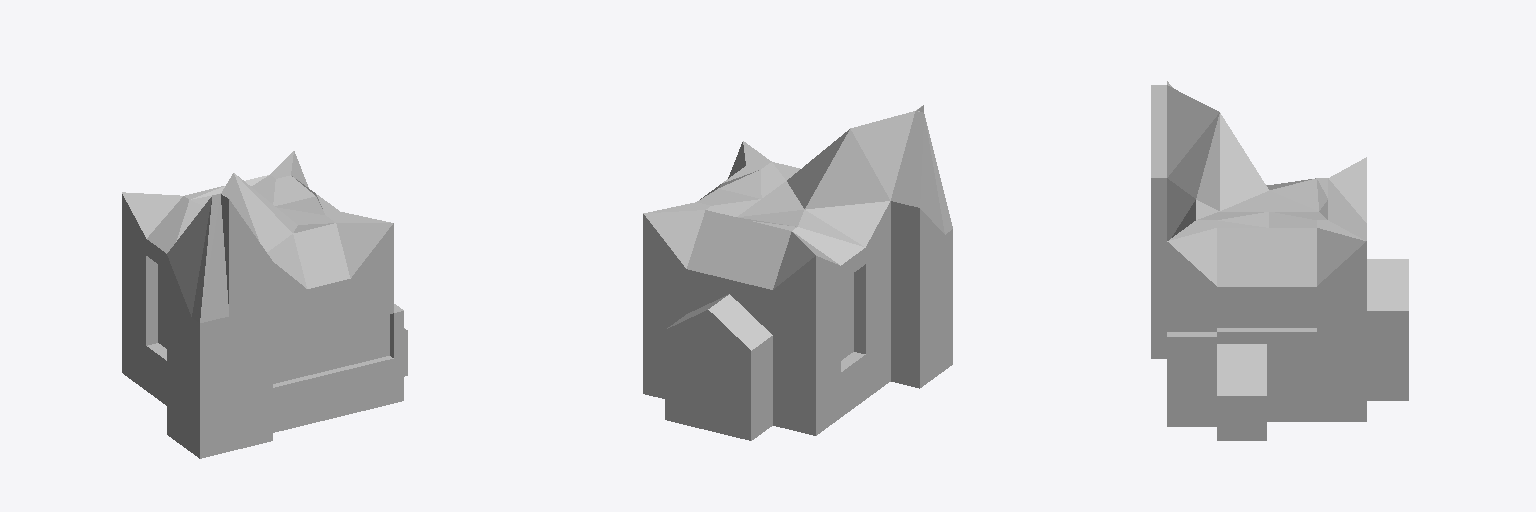
Rendered from colony.obj.
3 renders of one model, left to right at view 1: azimuth 30°, elevation 25°; view 2: azimuth 150°, elevation 25°; view 3: azimuth 270°, elevation 25°, orthographic.
Parts seen in each view (by area): view 1: Cube_Cube.001; view 2: Cube_Cube.001; view 3: Cube_Cube.001.
Part boxes in pixels (left/top/right/bottom): Cube_Cube.001: left=122, top=151, right=407, bottom=458; Cube_Cube.001: left=643, top=105, right=952, bottom=440; Cube_Cube.001: left=1151, top=81, right=1408, bottom=440.
Size of the model in its own units: 1.4 by 1.4 by 1.3.